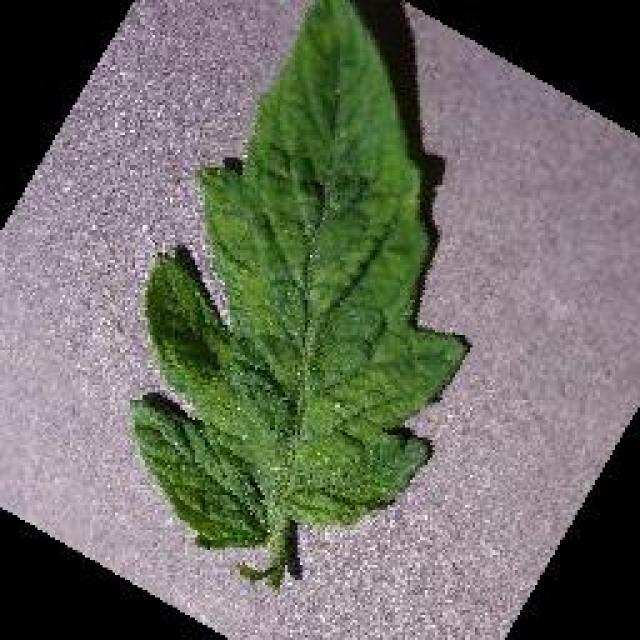Tomato___Tomato_mosaic_virus: (130, 0, 465, 585)
